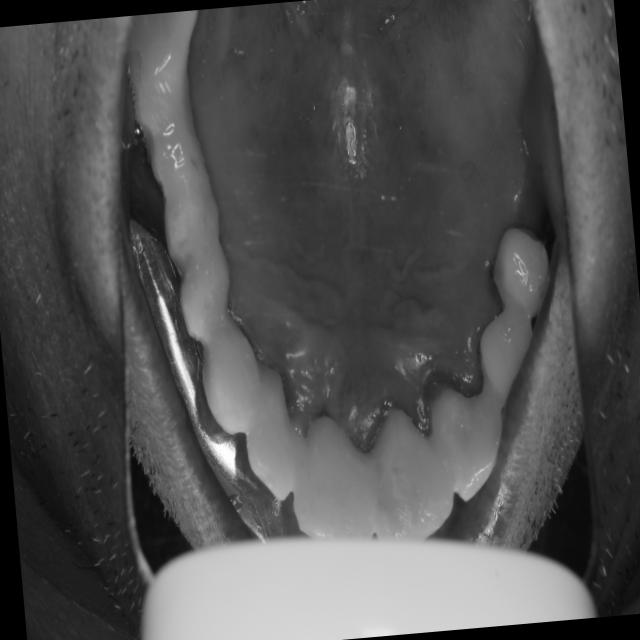tooth: (358, 384, 467, 560), (282, 392, 388, 565), (227, 343, 316, 520), (411, 373, 509, 515), (190, 309, 276, 466), (124, 76, 214, 193), (458, 301, 543, 413), (168, 239, 252, 351), (476, 216, 560, 328), (153, 178, 238, 280), (119, 9, 212, 98)
